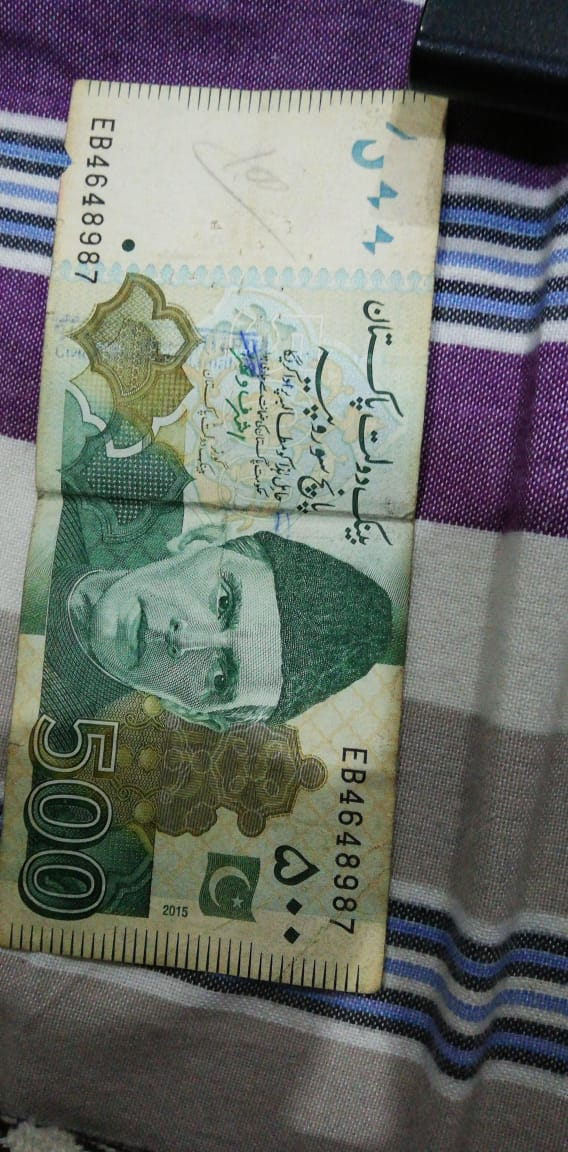500 rupee: (19, 64, 463, 1029)
